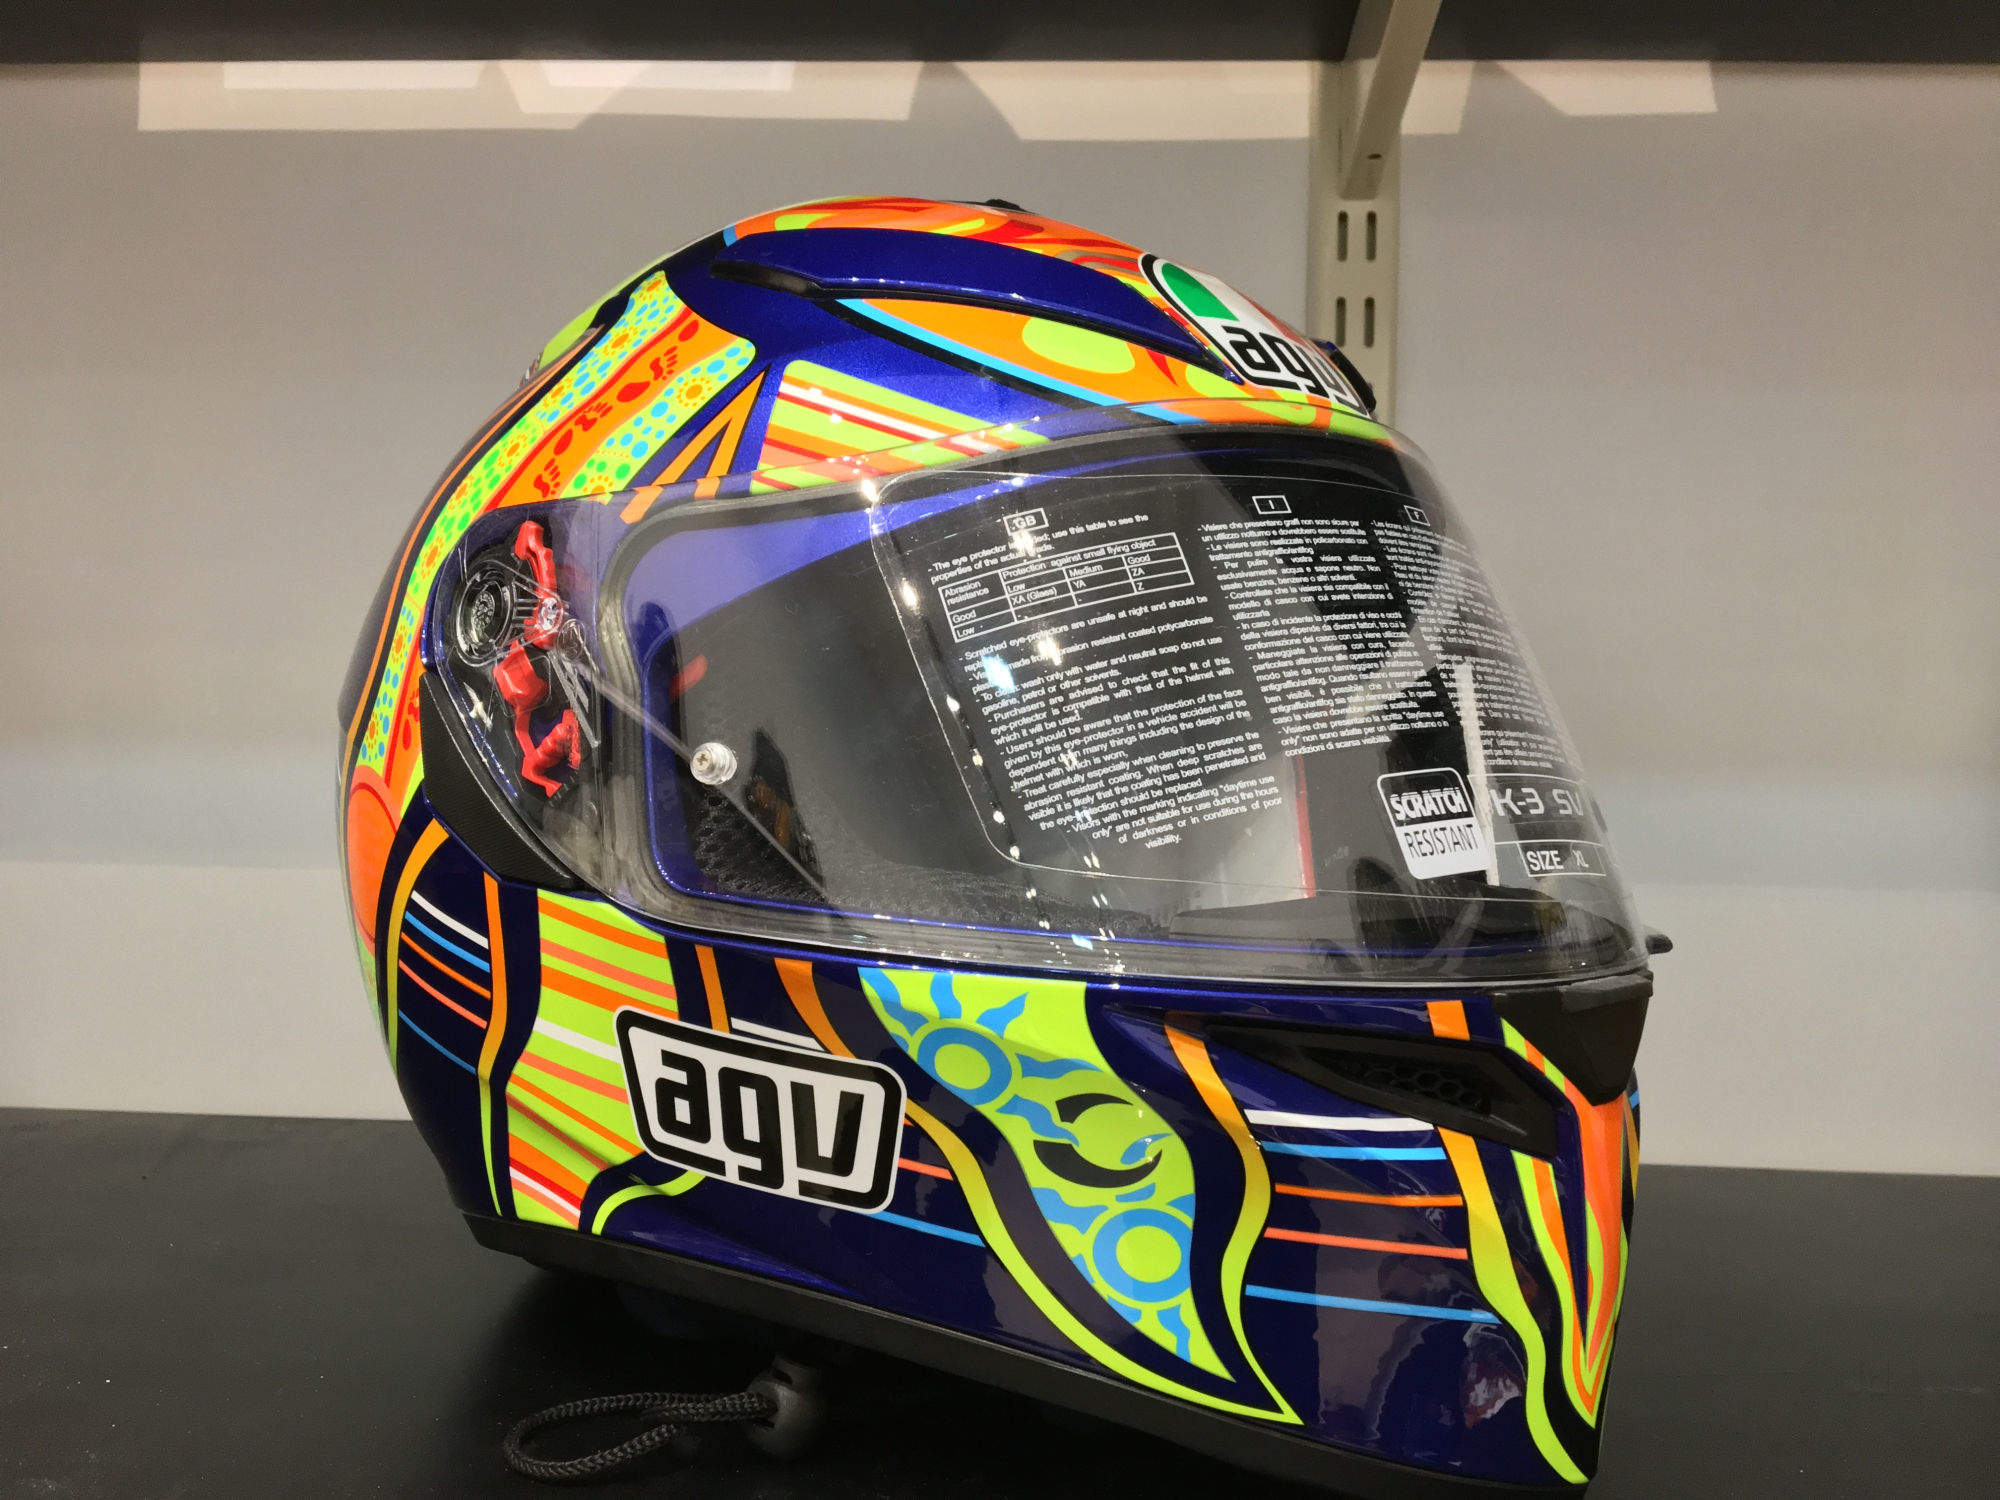with_helmet: (324, 165, 1687, 1500)
